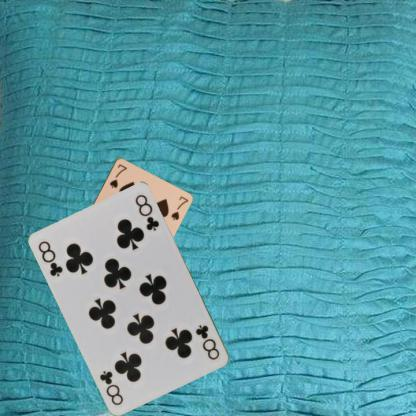7s: (107, 161, 128, 189)
8c: (36, 238, 66, 278), (193, 322, 221, 362)
